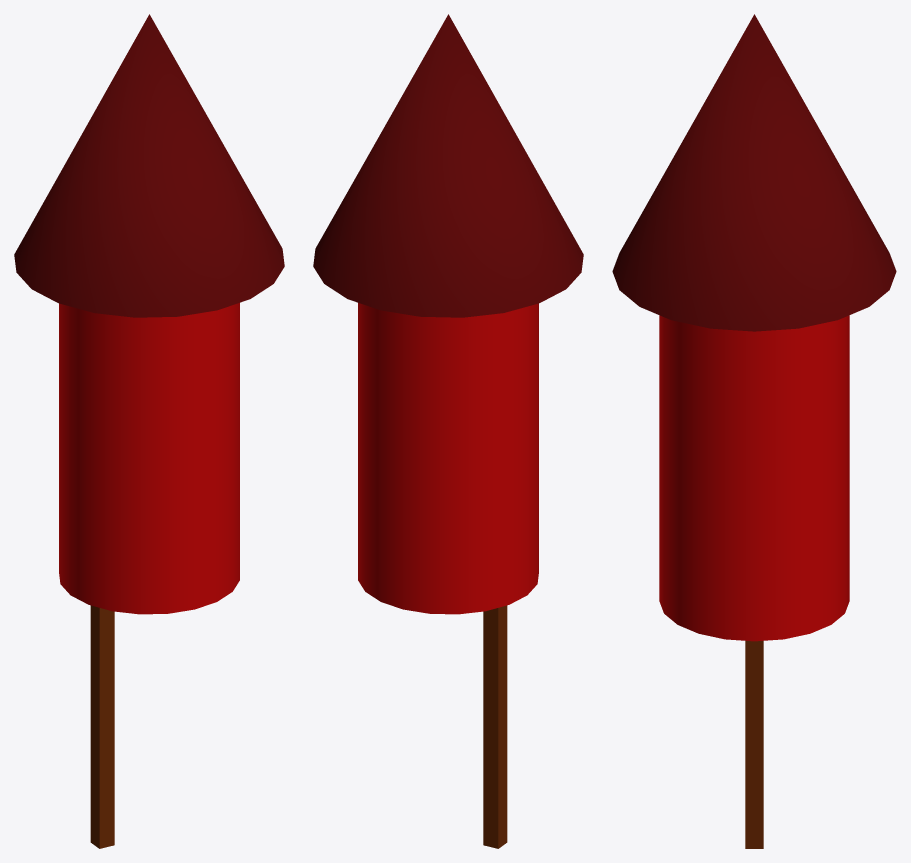
The model's file is Rocket.fbx.
The picture shows the model from 3 angles, left to right: view 1: azimuth 30°, elevation 25°; view 2: azimuth 150°, elevation 25°; view 3: azimuth 270°, elevation 25°; orthographic projection. The views are drawn at different scales.
Visible parts, largest first — view 1: pCube2; view 2: pCube2; view 3: pCube2.
Part boxes in pixels (box(x1,y1,x2,y2)): pCube2: box(14, 14, 284, 848); pCube2: box(313, 14, 583, 848); pCube2: box(612, 14, 896, 848).
Size of the model in its own units: 2 by 6.64 by 2.
